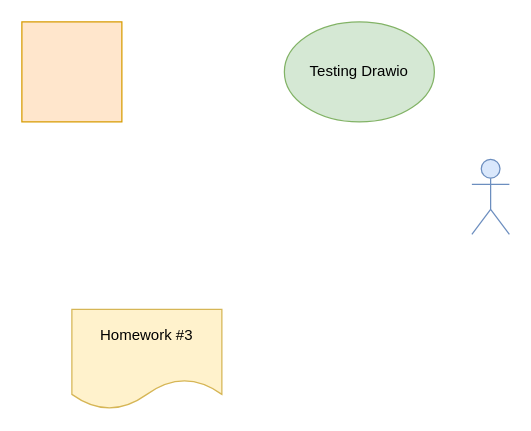
This 531x431 diagram has some shape labels left out. The centre of each missing label's shape, as x and y in pixels:
Actor: point (490, 196)
VS Code: point (71, 71)
